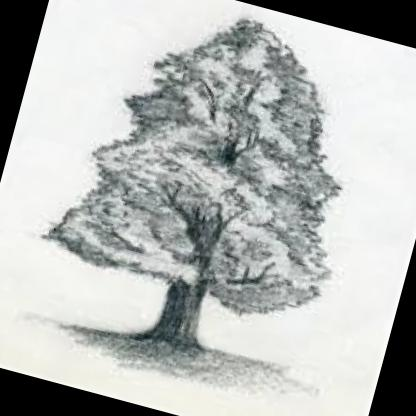crown_dizzy: (42, 0, 391, 337)
root_none: (128, 321, 225, 366)
trunk_bark: (152, 290, 214, 336)
